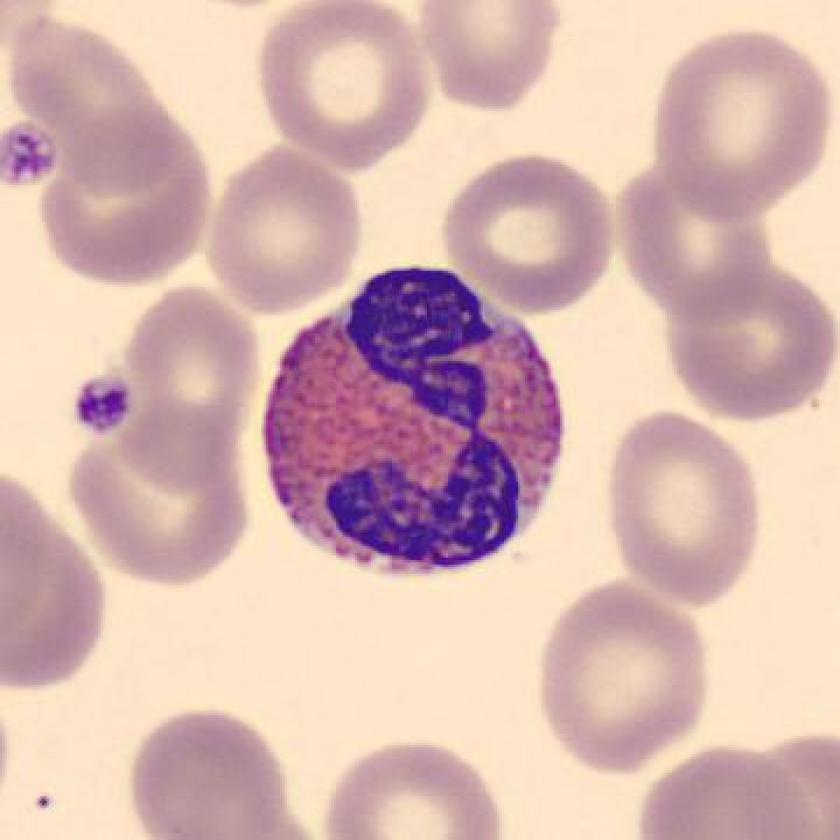eosinophil: (248, 253, 580, 598)
